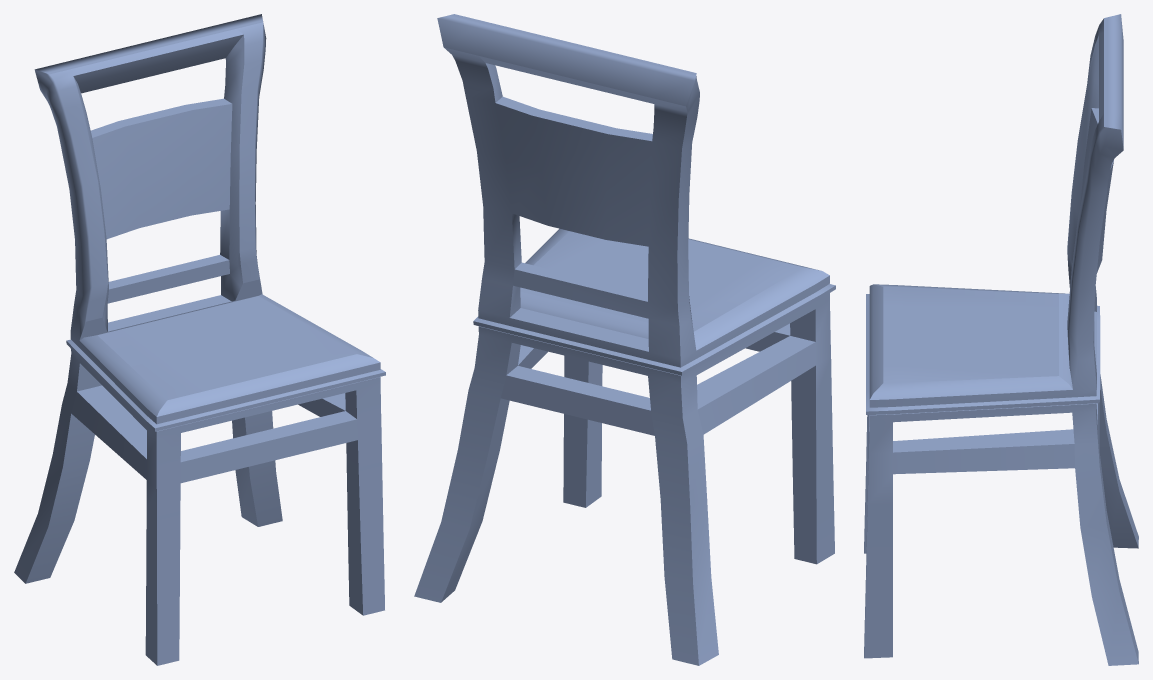
Rendered from LobbyChair03.fbx.
3 views of the same model, side by side, from view 1: azimuth 30°, elevation 25°; view 2: azimuth 150°, elevation 25°; view 3: azimuth 270°, elevation 25° (orthographic). The views are drawn at different scales.
Parts seen in each view (by area): view 1: LobbyChairs3_MESH; view 2: LobbyChairs3_MESH; view 3: LobbyChairs3_MESH.
Part boxes in pixels (bbox=[...]): LobbyChairs3_MESH: bbox=[14, 14, 385, 665]; LobbyChairs3_MESH: bbox=[414, 14, 835, 665]; LobbyChairs3_MESH: bbox=[864, 14, 1138, 665].
Size of the model in its own units: 68.52 by 129 by 60.7.
